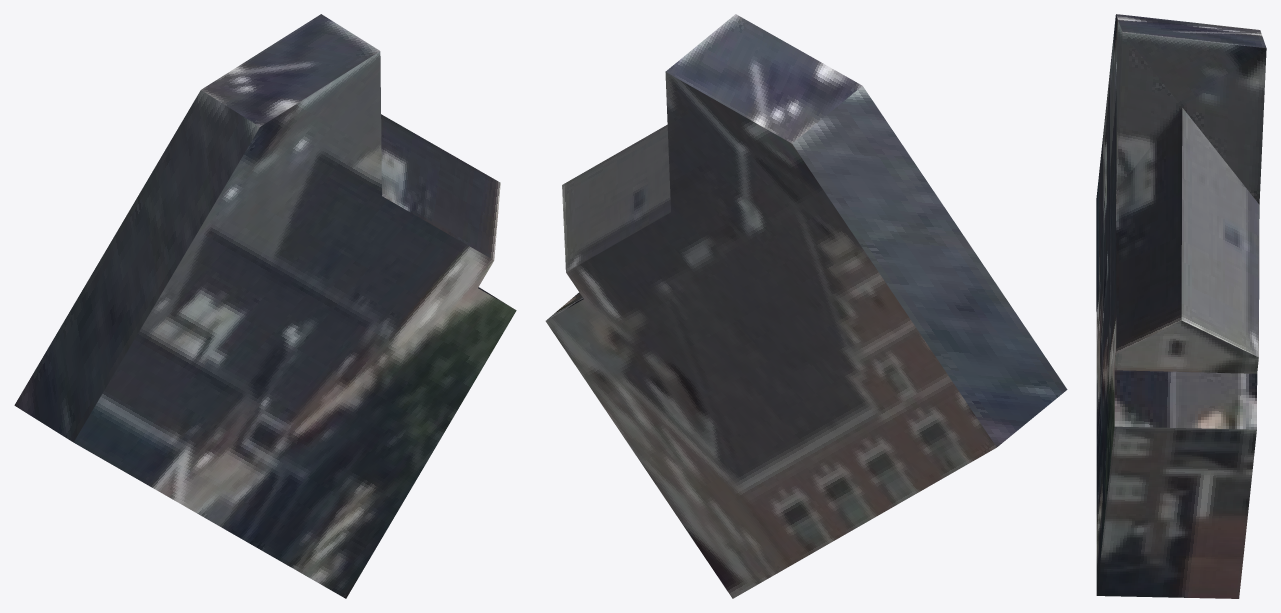
The picture shows the model from 3 angles, left to right: view 1: azimuth 30°, elevation 25°; view 2: azimuth 150°, elevation 25°; view 3: azimuth 270°, elevation 25°; orthographic projection. The views are drawn at different scales.
Visible parts, largest first — view 1: BAG_0599100000671724; view 2: BAG_0599100000671724; view 3: BAG_0599100000671724.
Boxes of the visible parts, x1,y1,x2,y2 form: BAG_0599100000671724: [14, 14, 516, 598]; BAG_0599100000671724: [545, 14, 1067, 598]; BAG_0599100000671724: [1096, 14, 1266, 598].
Bounding box in the file's own units: 20.22 × 22.11 × 5.75.
Materials: 2 (1 with a texture image).
